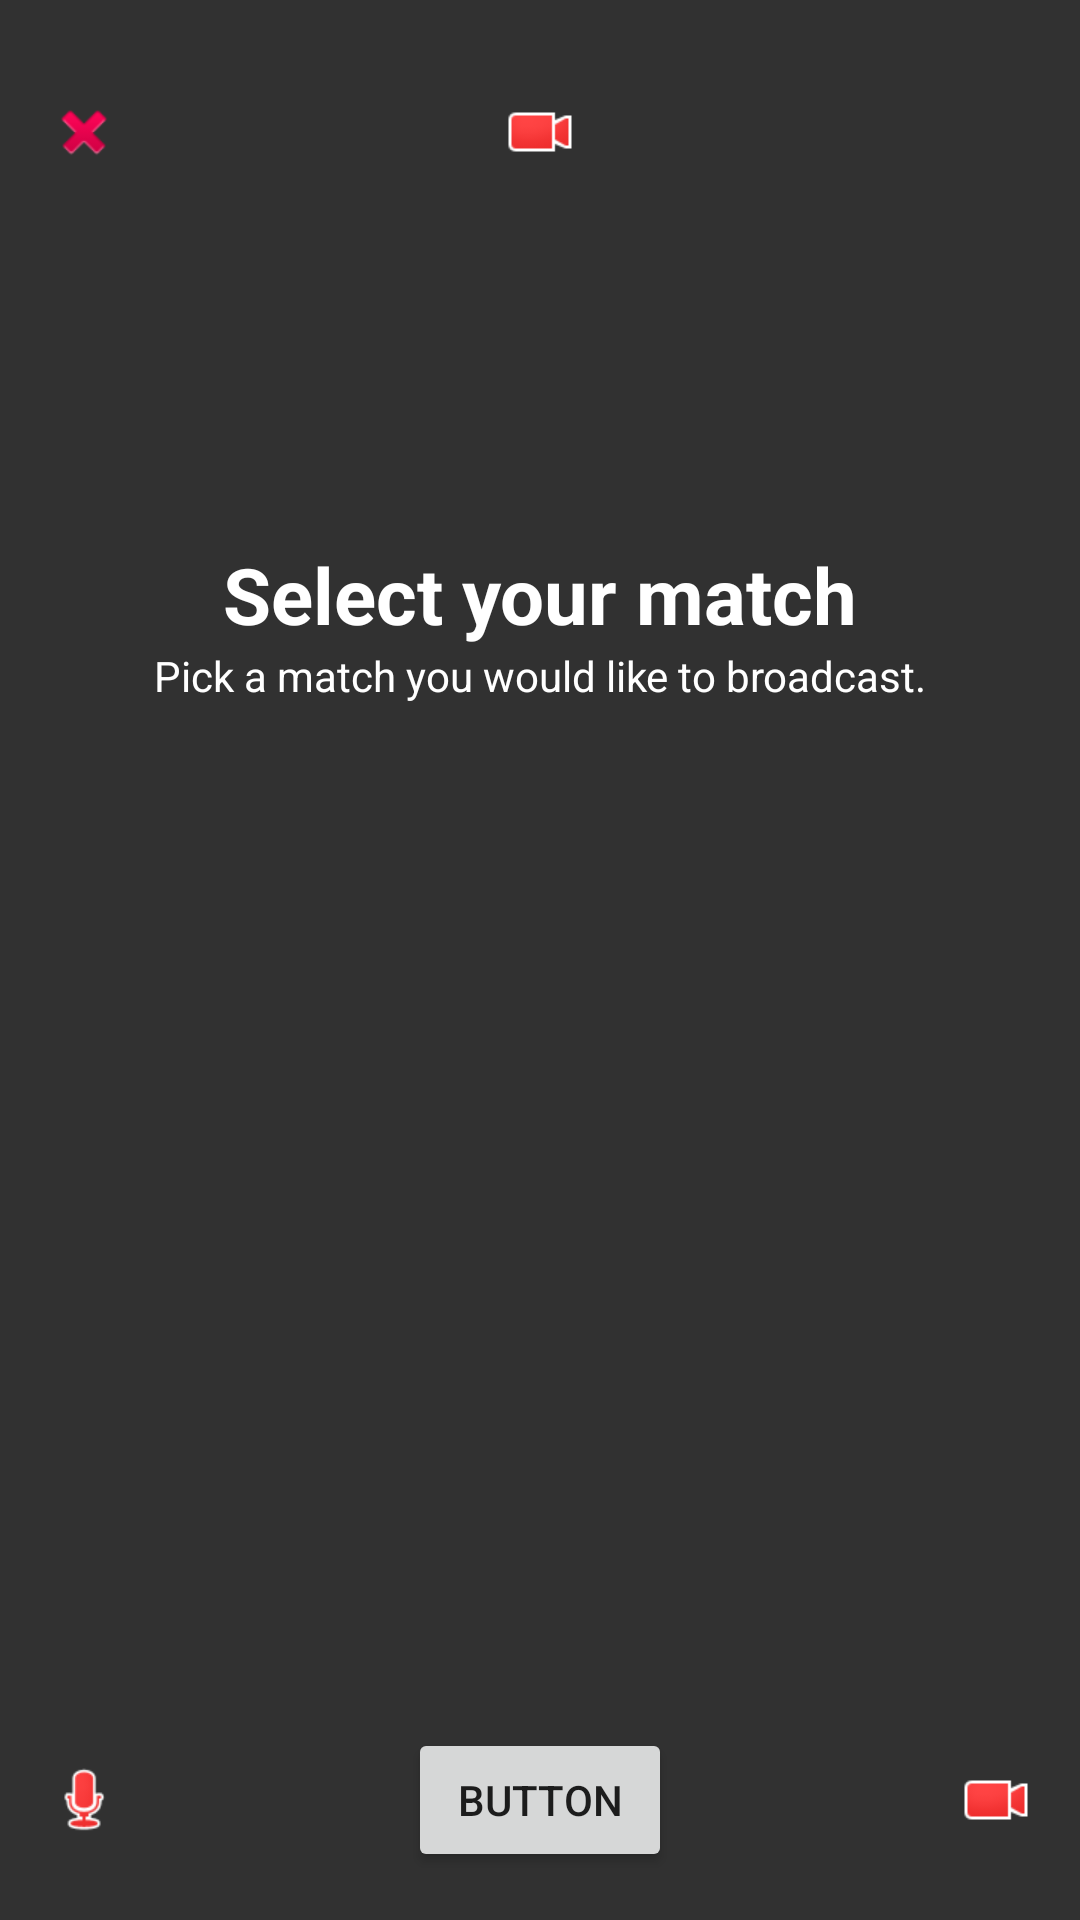

Icons on this 1080w x 1920h Android screen, each with its box as bbox=[x1, y1, x2, y2]:
delete: bbox=[61, 110, 107, 155]
presence audio busy: bbox=[64, 1769, 104, 1830]
presence video busy: bbox=[508, 112, 572, 152], bbox=[964, 1780, 1028, 1820]
